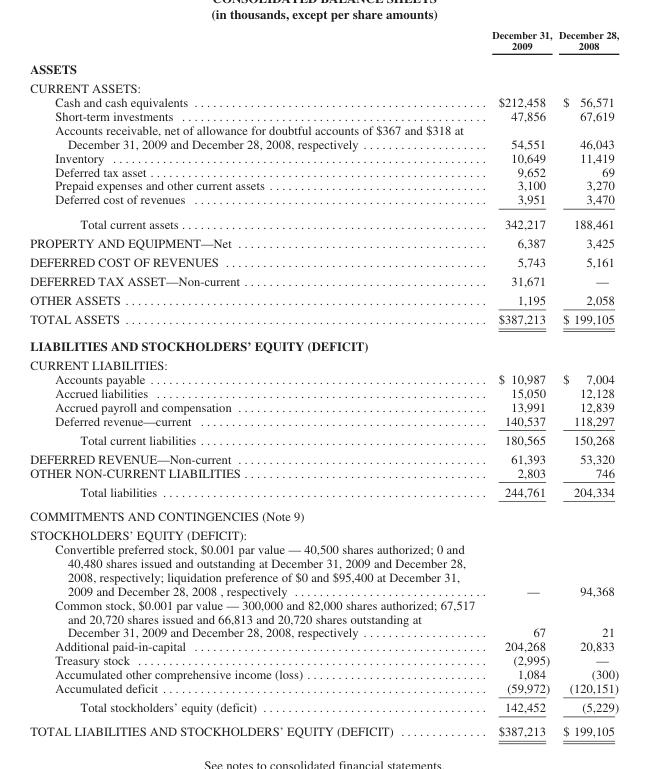table: (29, 28, 618, 738)
table column: (29, 28, 482, 738), (482, 28, 554, 738), (554, 28, 618, 738)
table column header: (29, 28, 618, 56)
table projected row header: (29, 332, 618, 355), (29, 56, 618, 78), (29, 503, 618, 525), (29, 78, 618, 94), (29, 355, 618, 371), (29, 525, 618, 541)
table row: (29, 541, 618, 597), (29, 597, 618, 639), (29, 28, 618, 56), (29, 122, 618, 150), (29, 309, 618, 332), (29, 332, 618, 355), (29, 56, 618, 78), (29, 503, 618, 525), (29, 211, 618, 232), (29, 482, 618, 503), (29, 697, 618, 718), (29, 251, 618, 271), (29, 429, 618, 449), (29, 718, 618, 738), (29, 192, 618, 211), (29, 232, 618, 251), (29, 271, 618, 290), (29, 290, 618, 309), (29, 465, 618, 482), (29, 680, 618, 697), (29, 78, 618, 94), (29, 355, 618, 371), (29, 413, 618, 429), (29, 449, 618, 465), (29, 525, 618, 541), (29, 94, 618, 108), (29, 108, 618, 122), (29, 150, 618, 164), (29, 164, 618, 178), (29, 178, 618, 192), (29, 371, 618, 385), (29, 385, 618, 399), (29, 399, 618, 413), (29, 639, 618, 653), (29, 666, 618, 680), (29, 653, 618, 666)
